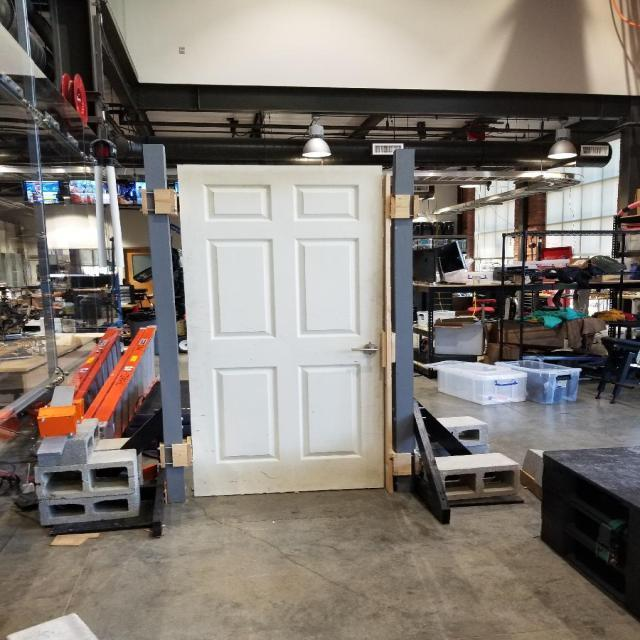door: (173, 161, 392, 498), (345, 342, 382, 359)
